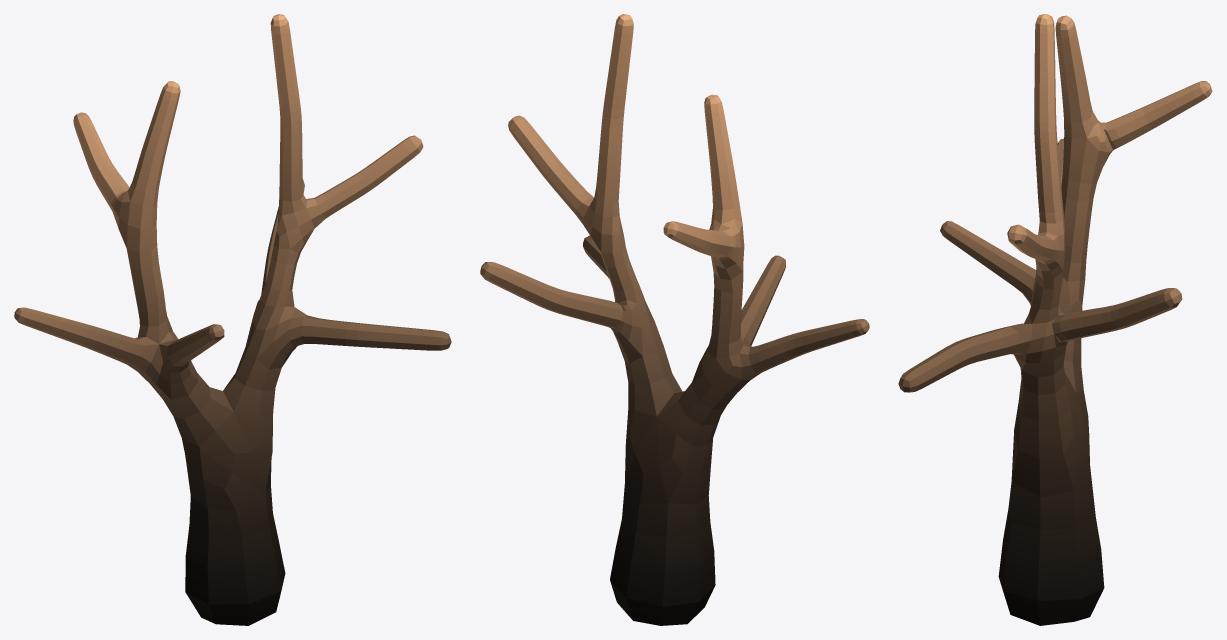
File: hollow_tree1.fbx
3 views of the same model, side by side, from view 1: azimuth 30°, elevation 25°; view 2: azimuth 150°, elevation 25°; view 3: azimuth 270°, elevation 25° (orthographic). The views are drawn at different scales.
Parts seen in each view (by area): view 1: hollow_tree; view 2: hollow_tree; view 3: hollow_tree.
Part boxes in pixels (x1=…): hollow_tree: x1=14, y1=14, x2=451, y2=625; hollow_tree: x1=480, y1=14, x2=869, y2=625; hollow_tree: x1=898, y1=14, x2=1212, y2=625.
Bounding box in the file's own units: 968 × 1439 × 652.
